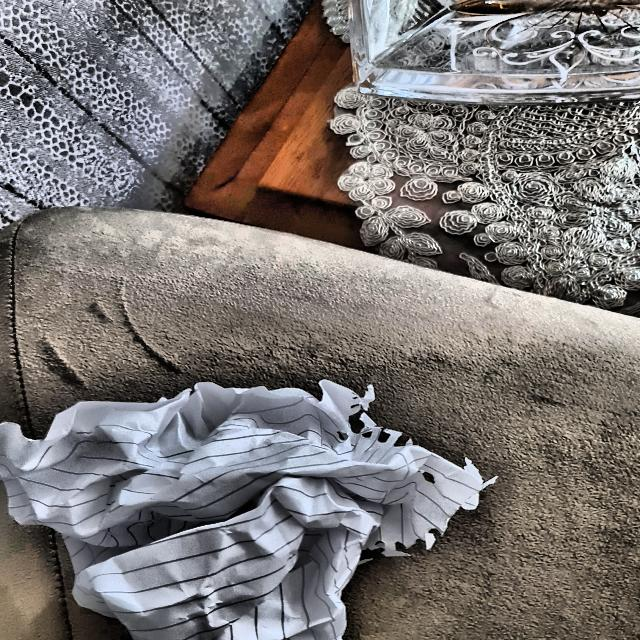paper: (0, 366, 486, 640)
